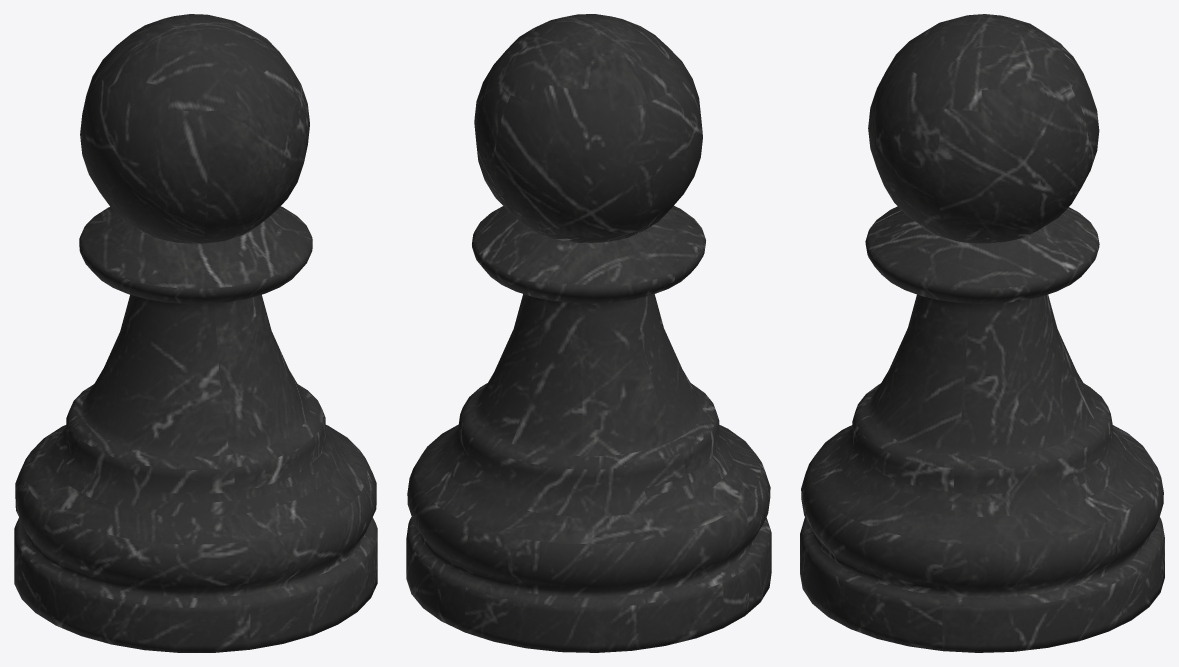
Rendered from pawn_sep.glb.
3 renders of one model, left to right at view 1: azimuth 30°, elevation 25°; view 2: azimuth 150°, elevation 25°; view 3: azimuth 270°, elevation 25°, orthographic.
Visible parts, largest first — view 1: Pawn; view 2: Pawn; view 3: Pawn.
Part boxes in pixels (bbox=[...]): Pawn: bbox=[14, 14, 377, 652]; Pawn: bbox=[406, 14, 771, 652]; Pawn: bbox=[800, 14, 1164, 652].
Bounding box in the file's own units: 2.22 × 3.69 × 2.22.
Materials: 1 (1 with a texture image).
